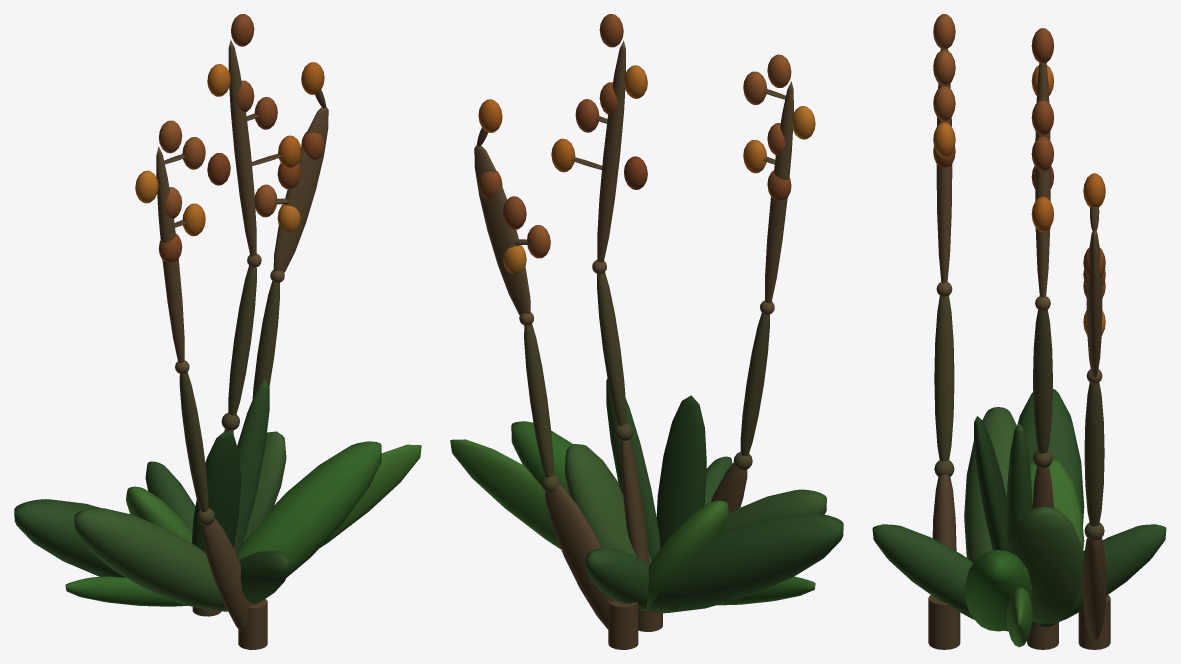
The model's file is CMU3DRMCBushe3.glb.
3 renders of one model, left to right at view 1: azimuth 30°, elevation 25°; view 2: azimuth 150°, elevation 25°; view 3: azimuth 270°, elevation 25°, orthographic. The views are drawn at different scales.
Visible parts, largest first — view 1: basal leaf 1, basal leaf 7, basal leaf 0, basal leaf 4, basal leaf 5, visible stem 1 section 2, visible stem 2 section 2, visible stem 0 section 0, visible stem 0 section 2, basal leaf 8, visible stem 1 section 1, basal leaf 2 (+18 smaller); view 2: basal leaf 0, basal leaf 4, basal leaf 8, basal leaf 6, visible stem 2 section 0, basal leaf 3, visible stem 2 section 2, visible stem 1 section 2, inferred front back basal leaf 1, visible stem 0 section 2, visible stem 2 section 1, visible stem 1 section 1 (+21 smaller); view 3: basal leaf 6, inferred front back basal leaf 0, basal leaf 7, basal leaf 1, inferred front back basal leaf 1, visible stem 0 section 1, basal leaf 0, basal leaf 4, visible stem 2 section 1, visible stem 1 section 1, basal leaf 5, visible stem 2 section 0 (+19 smaller).
Boxes of the visible parts, <box> form: basal leaf 1: <box>74,508,225,610</box>; basal leaf 7: <box>236,441,381,577</box>; basal leaf 0: <box>14,499,125,577</box>; basal leaf 4: <box>192,430,240,552</box>; basal leaf 5: <box>233,379,269,552</box>; visible stem 1 section 2: <box>228,40,256,256</box>; visible stem 2 section 2: <box>273,106,328,272</box>; visible stem 0 section 0: <box>201,518,252,631</box>; visible stem 0 section 2: <box>156,146,184,362</box>; basal leaf 8: <box>320,444,421,547</box>; visible stem 1 section 1: <box>228,265,256,415</box>; basal leaf 2: <box>65,576,188,606</box>; basal leaf 0: <box>645,513,843,613</box>; basal leaf 4: <box>656,395,706,548</box>; basal leaf 8: <box>450,439,560,549</box>; basal leaf 6: <box>564,444,651,565</box>; visible stem 2 section 0: <box>545,484,616,629</box>; basal leaf 3: <box>641,500,729,610</box>; visible stem 2 section 2: <box>474,144,530,315</box>; visible stem 1 section 2: <box>597,40,625,262</box>; inferred front back basal leaf 1: <box>584,548,649,609</box>; visible stem 0 section 2: <box>765,81,793,303</box>; visible stem 2 section 1: <box>524,324,553,477</box>; visible stem 1 section 1: <box>597,272,626,425</box>; basal leaf 6: <box>1008,507,1083,623</box>; inferred front back basal leaf 0: <box>872,524,1008,631</box>; basal leaf 7: <box>964,550,1032,631</box>; basal leaf 1: <box>964,407,1016,562</box>; inferred front back basal leaf 1: <box>1031,524,1166,628</box>; visible stem 0 section 1: <box>934,296,954,461</box>; basal leaf 0: <box>1017,389,1084,627</box>; basal leaf 4: <box>974,416,1006,550</box>; visible stem 2 section 1: <box>1084,382,1104,526</box>; visible stem 1 section 1: <box>1033,309,1052,453</box>; basal leaf 5: <box>1006,423,1032,551</box>; visible stem 2 section 0: <box>1082,538,1106,640</box>.
Bounding box in the file's own units: 0.5234 × 0.7442 × 0.3133.
